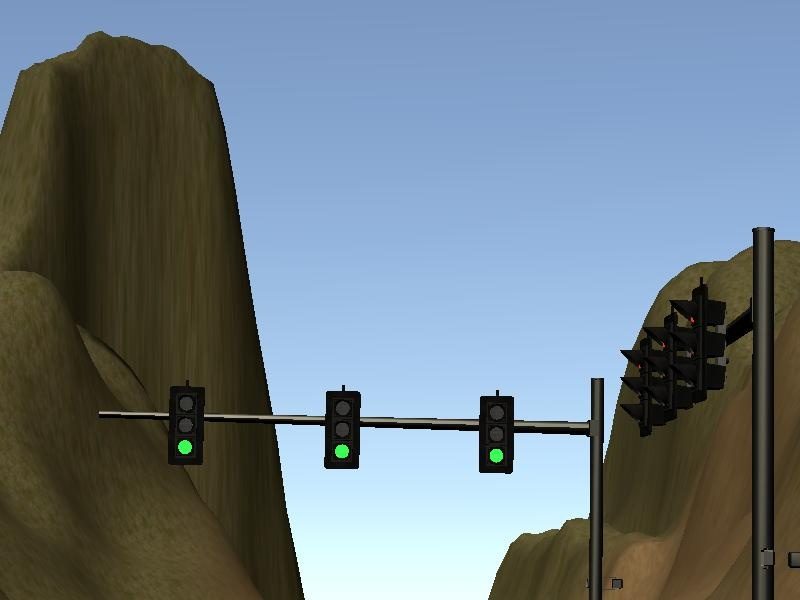GREEN: (475, 391, 518, 476), (323, 388, 363, 471), (167, 384, 207, 463)
